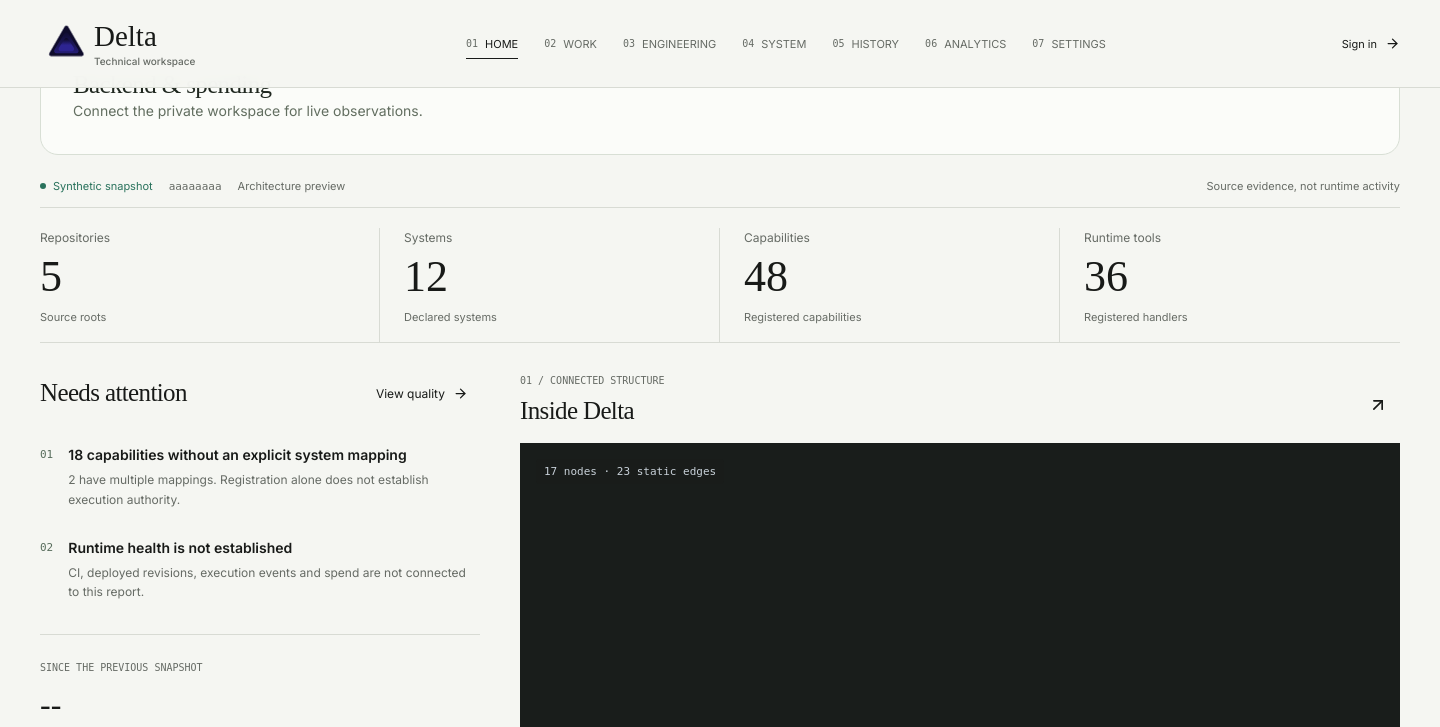
opens the full architecture workspace from the overview map
The width and height of the screenshot is (1440, 727).
(page scrolled)
Click the button named "Open architecture map" at (1378, 405), box left=1356, top=385, right=1400, bottom=425
(page scrolled)
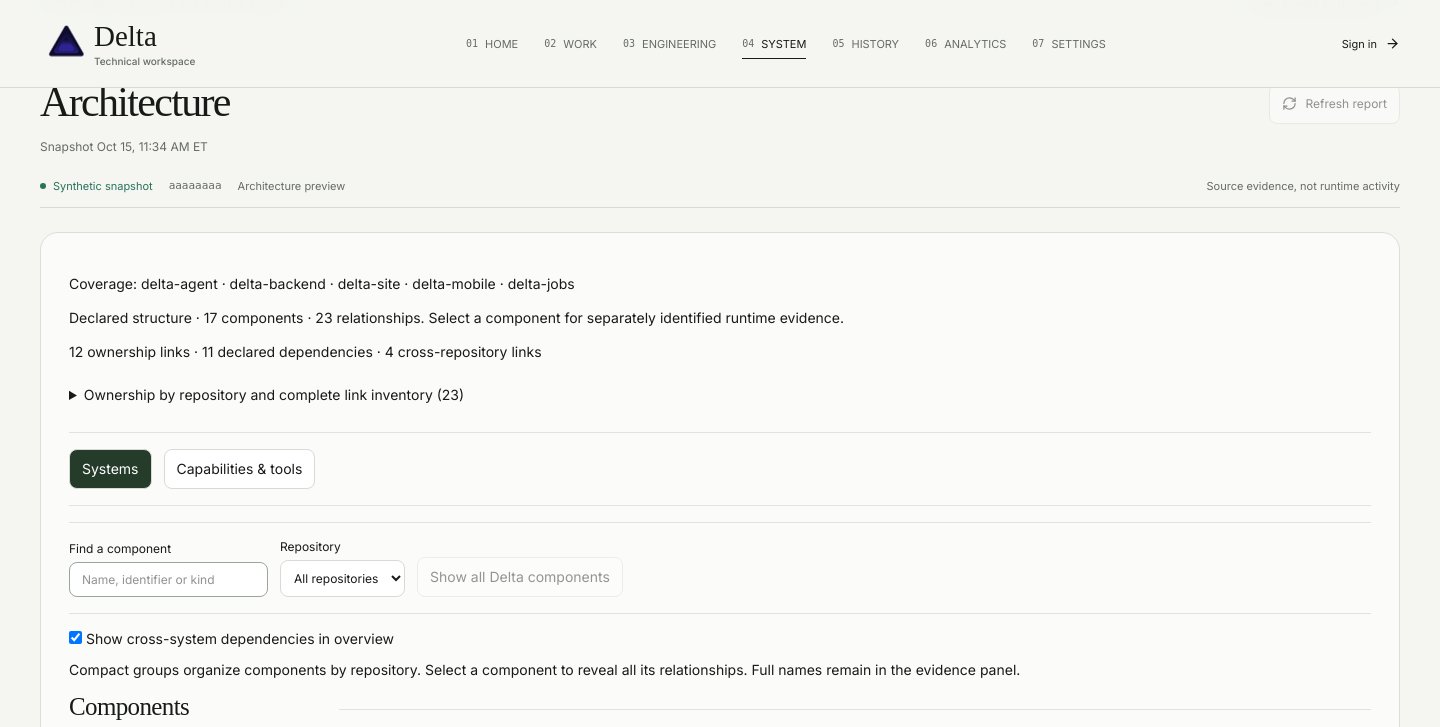
expect the heading "Architecture" is shown: met, box left=40, top=77, right=230, bottom=127
